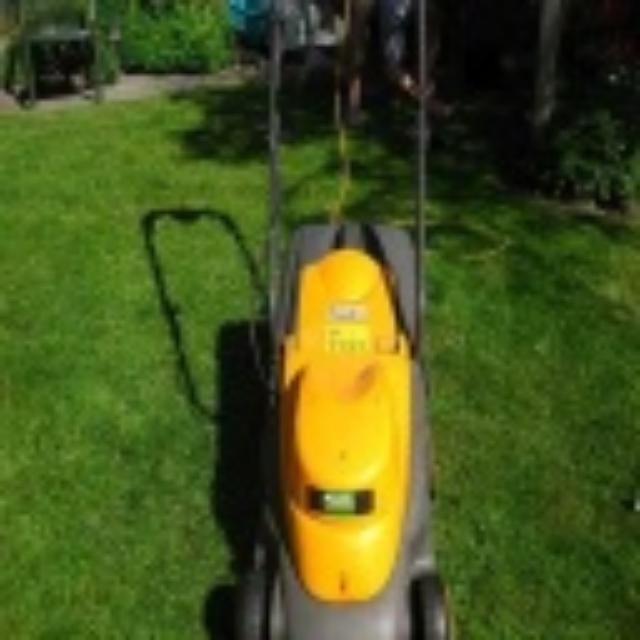Rotary-Mower: (140, 1, 470, 636)
